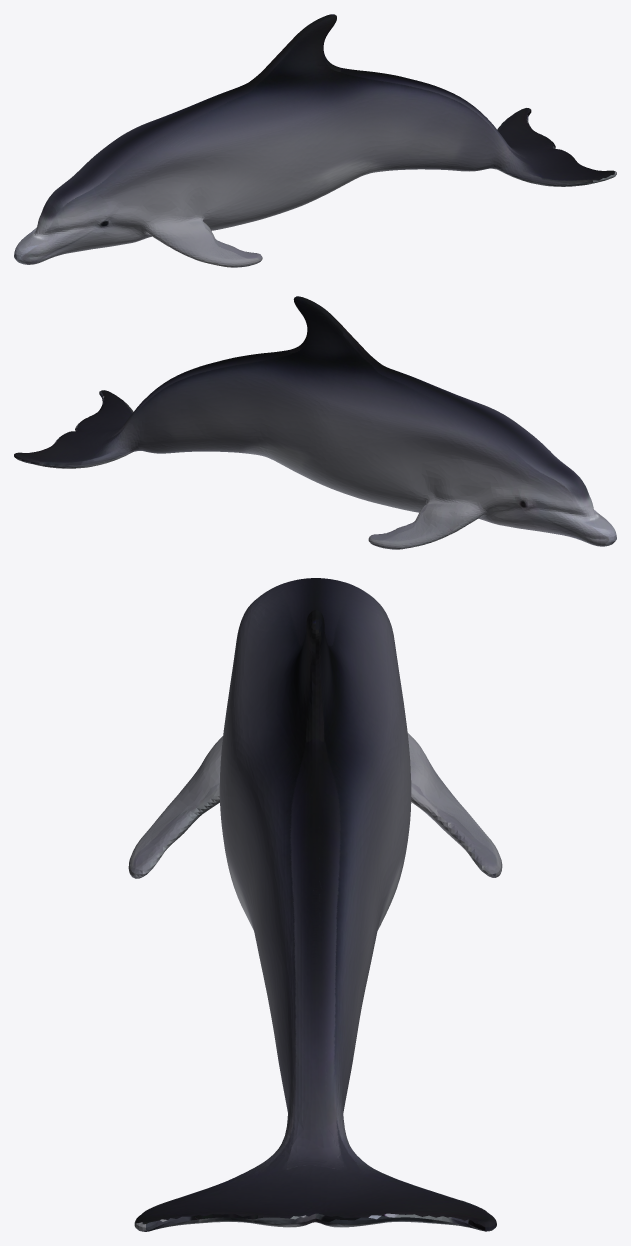
File: paint_mesh_Dolphin.glb
The picture shows the model from 3 angles, top to bottom: view 1: azimuth 30°, elevation 25°; view 2: azimuth 150°, elevation 25°; view 3: azimuth 270°, elevation 25°; orthographic projection. The views are drawn at different scales.
Parts seen in each view (by area): view 1: world; view 2: world; view 3: world.
Part boxes in pixels (x1,y1,x2,y2): world: (14, 14, 616, 267); world: (14, 296, 616, 549); world: (128, 578, 502, 1231).
Size of the model in its own units: 1.99 by 0.6782 by 0.5779.
Materials: 1 (1 with a texture image).
